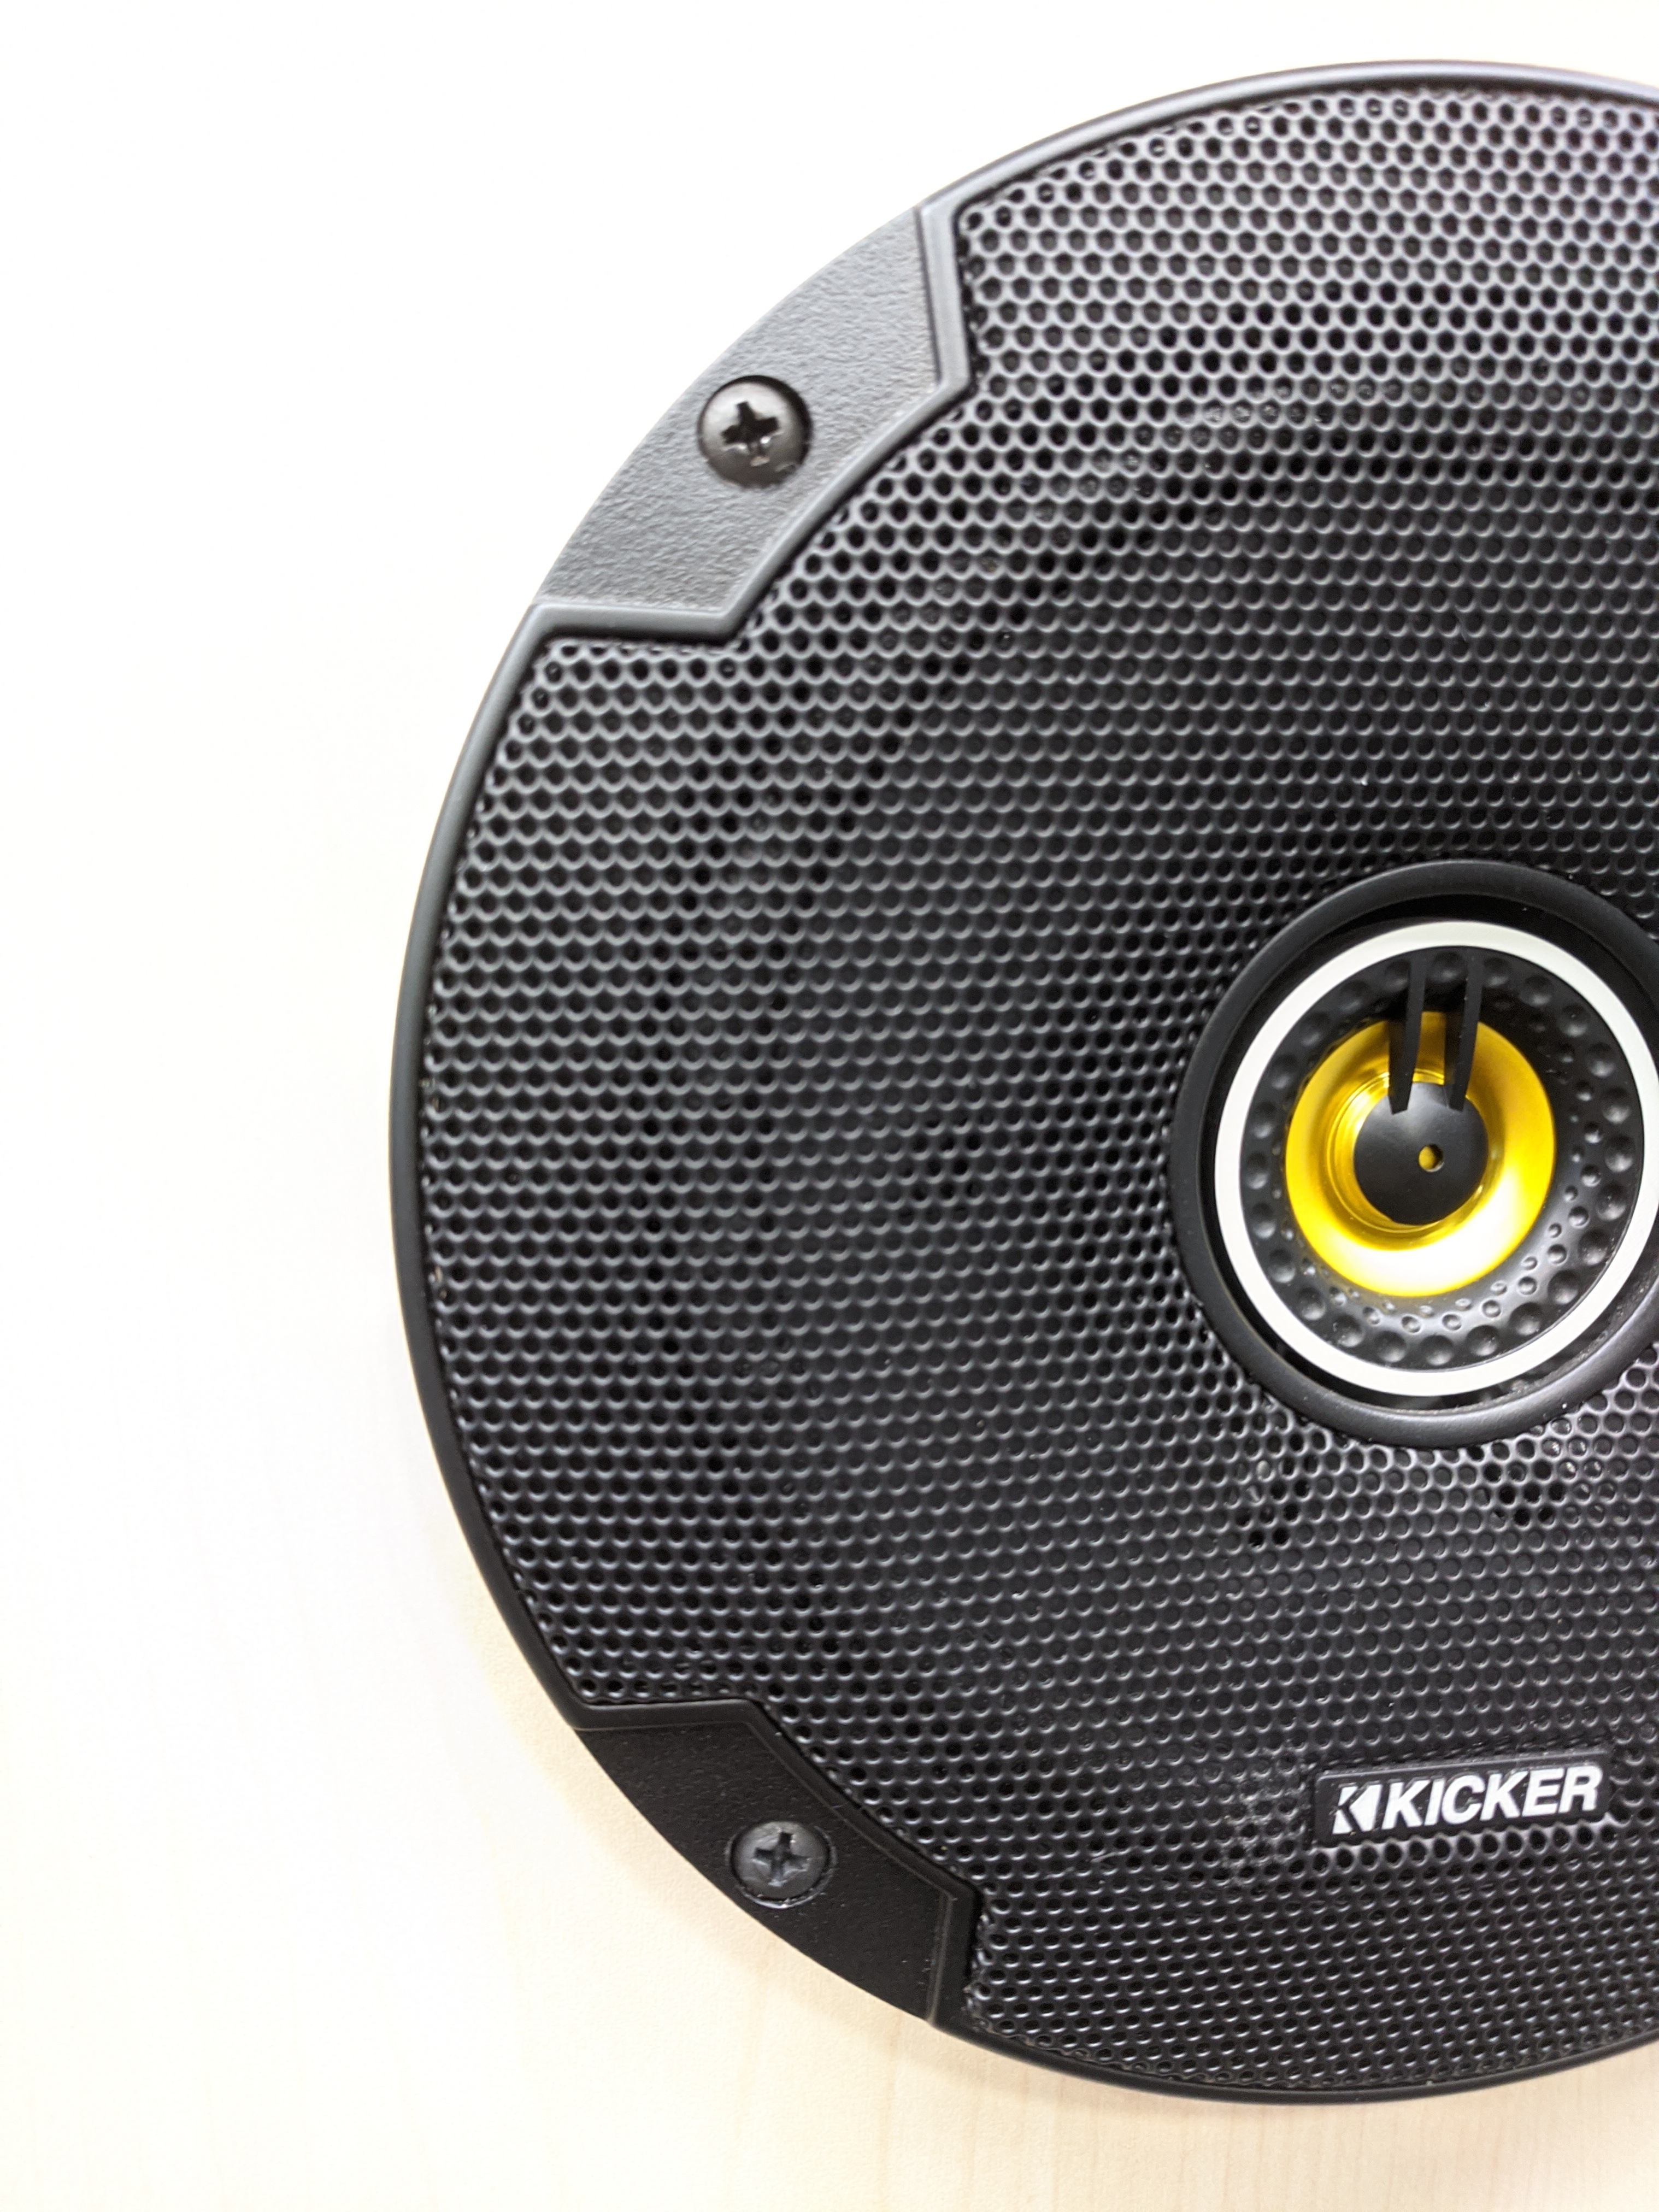cross_recessed_screw: (699, 364, 810, 491), (720, 1803, 833, 1923)
